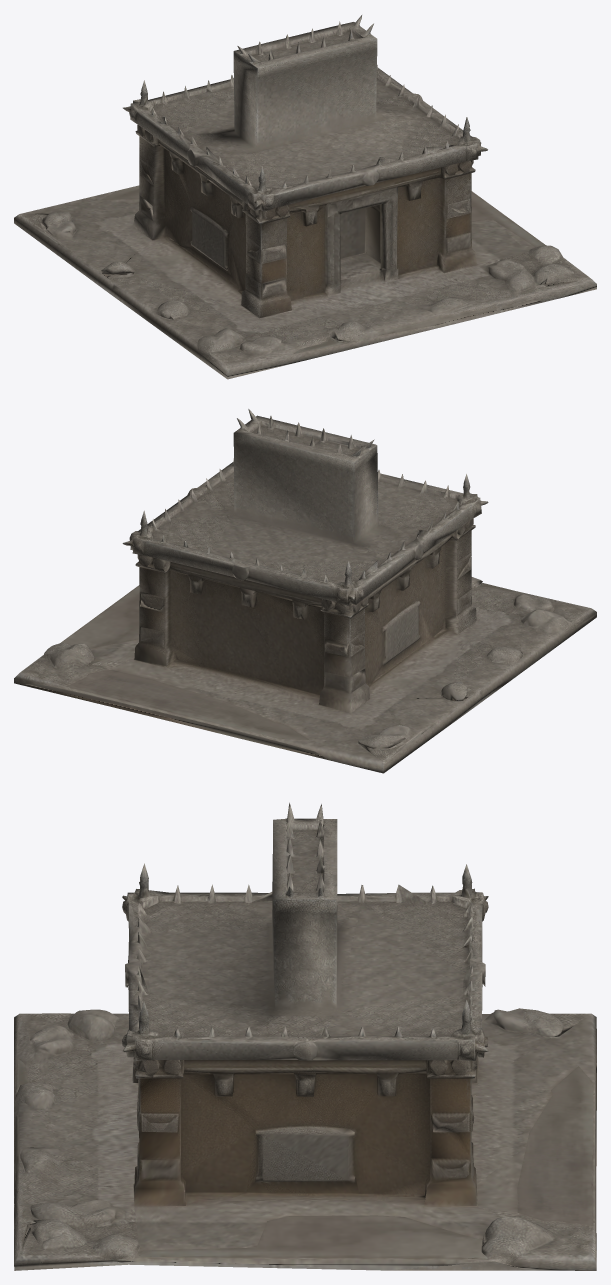
File: crush_pillar.glb
The picture shows the model from 3 angles, top to bottom: view 1: azimuth 30°, elevation 25°; view 2: azimuth 150°, elevation 25°; view 3: azimuth 270°, elevation 25°; orthographic projection. The views are drawn at different scales.
Bounding box in the file's own units: 1.9 × 1.09 × 1.9.
Materials: 1 (1 with a texture image).
